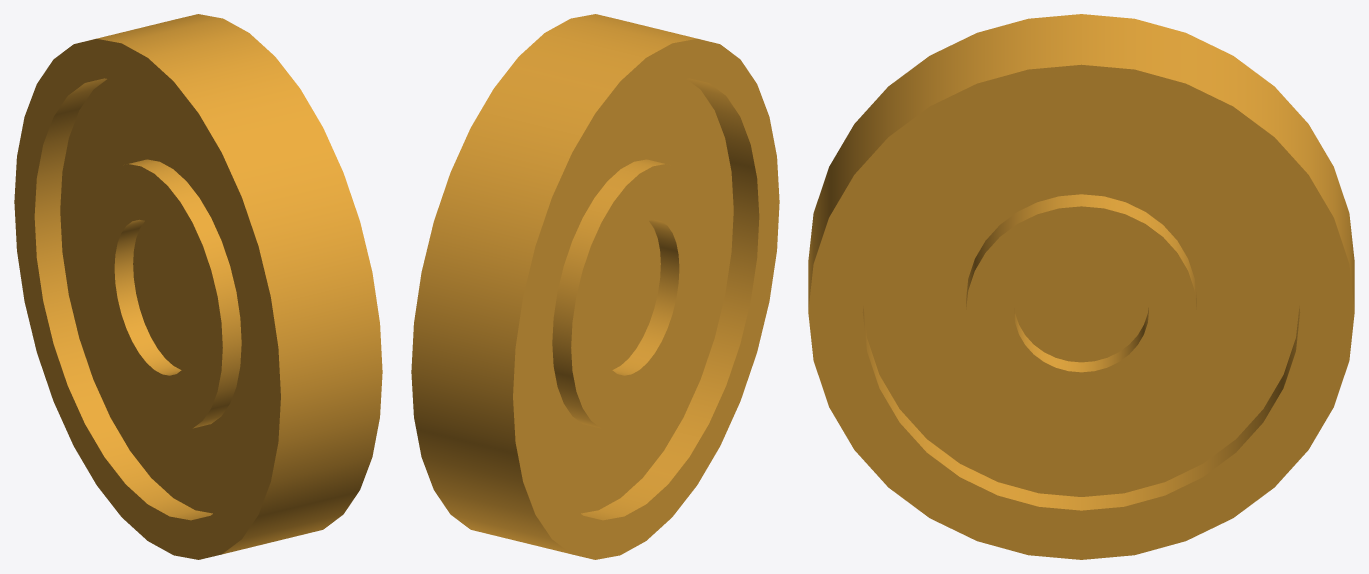
The model's file is coin.fbx.
The picture shows the model from 3 angles, left to right: view 1: azimuth 30°, elevation 25°; view 2: azimuth 150°, elevation 25°; view 3: azimuth 270°, elevation 25°; orthographic projection. The views are drawn at different scales.
Visible parts, largest first — view 1: Cylinder; view 2: Cylinder; view 3: Cylinder.
Part boxes in pixels (left/top/right/bottom): Cylinder: left=14, top=14, right=382, bottom=559; Cylinder: left=411, top=14, right=779, bottom=559; Cylinder: left=808, top=14, right=1354, bottom=559.
Bounding box in the file's own units: 49.21 × 224 × 224.
